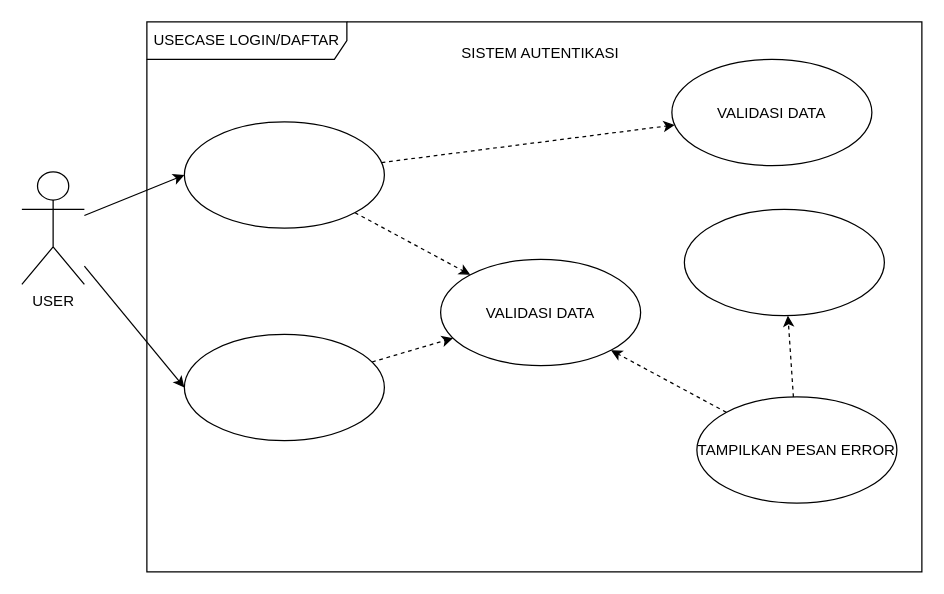
The diagram is 944 pixels wide and 594 high, and some of its shapes have lost their labels. Each missing label, with the box of its shape:
DAFTAR AKUN: (183, 121, 384, 228)
LOGIN AKUN: (183, 333, 384, 441)
VERIFIKASI EMAIL: (683, 208, 884, 316)
